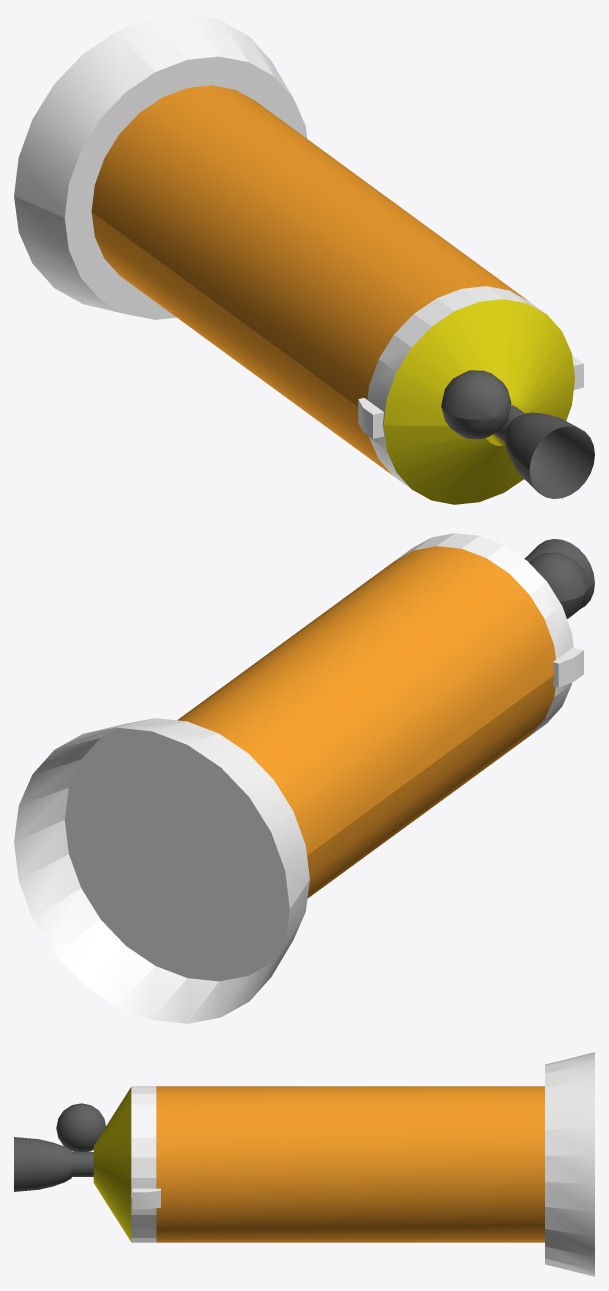
The model's file is stage3.obj.
3 views of the same model, one above another, from view 1: azimuth 30°, elevation 25°; view 2: azimuth 150°, elevation 25°; view 3: azimuth 270°, elevation 25° (orthographic). The views are drawn at different scales.
Visible parts, largest first — view 1: group10, group3, group5, group4, group8, group2, group7, group9, group1; view 2: group3, group10, group4, group2, group7, group8, group1; view 3: group10, group3, group5, group2, group4, group8, group7, group9, group0, group6.
Boxes of the visible parts, bbox=[...] form: group10: bbox=[91, 85, 527, 475]; group3: bbox=[14, 14, 307, 319]; group5: bbox=[383, 299, 574, 504]; group4: bbox=[14, 15, 307, 319]; group8: bbox=[505, 412, 594, 498]; group2: bbox=[367, 286, 545, 488]; group7: bbox=[441, 370, 511, 439]; group9: bbox=[505, 413, 594, 498]; group1: bbox=[358, 398, 383, 438]; group3: bbox=[14, 718, 309, 1023]; group10: bbox=[177, 546, 555, 898]; group4: bbox=[14, 719, 309, 1022]; group2: bbox=[395, 533, 573, 735]; group7: bbox=[529, 552, 588, 618]; group8: bbox=[524, 539, 594, 608]; group1: bbox=[553, 647, 583, 687]; group10: bbox=[156, 1086, 544, 1242]; group3: bbox=[545, 1052, 594, 1276]; group5: bbox=[93, 1087, 131, 1241]; group2: bbox=[131, 1086, 156, 1242]; group4: bbox=[545, 1053, 594, 1274]; group8: bbox=[14, 1137, 71, 1191]; group7: bbox=[56, 1103, 105, 1151]; group9: bbox=[14, 1138, 71, 1190]; group0: bbox=[132, 1188, 160, 1209]; group6: bbox=[71, 1152, 93, 1176].
Size of the model in its own units: 3.65 by 3.65 by 9.4.
